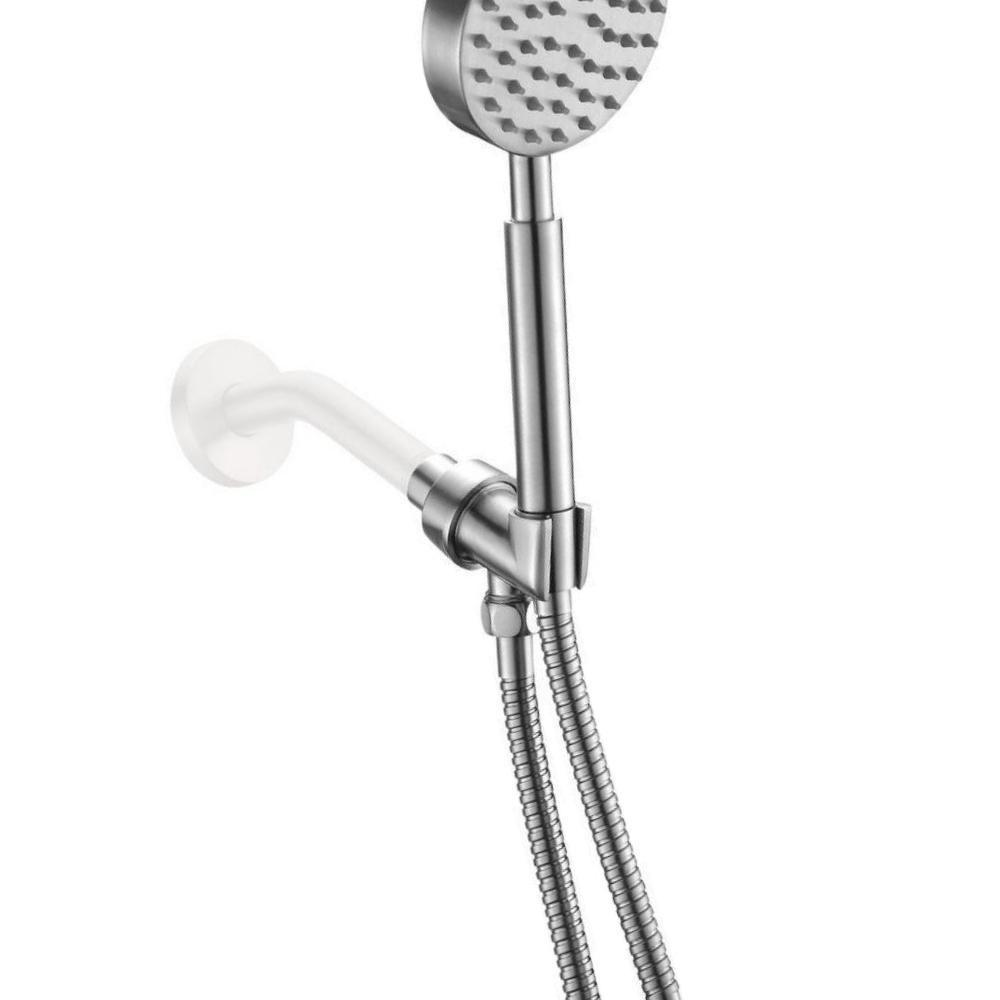Ducha: (179, 0, 750, 999)
